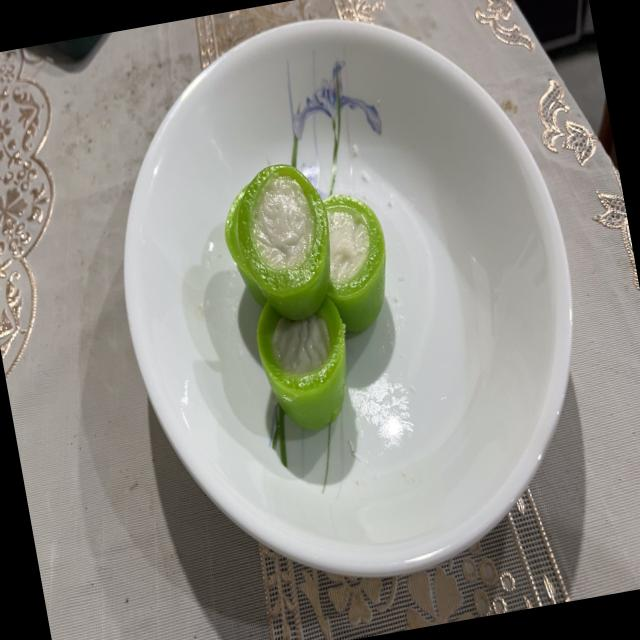nona-manis: (232, 164, 330, 320), (256, 296, 346, 430), (323, 194, 386, 332), (224, 186, 266, 308)
